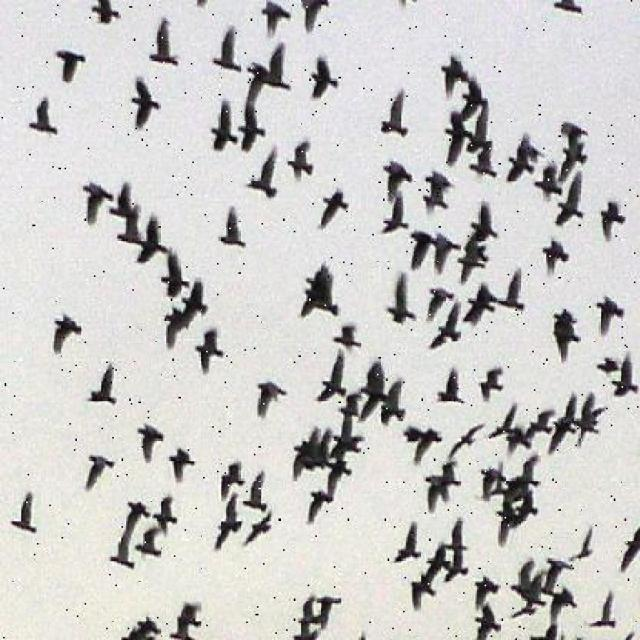bird: (247, 40, 298, 98), (122, 74, 164, 136), (143, 12, 184, 73), (241, 141, 284, 199), (70, 174, 114, 230), (202, 94, 239, 155), (375, 85, 413, 144), (239, 468, 281, 520), (81, 368, 132, 410), (307, 49, 345, 104), (107, 171, 145, 226), (2, 489, 43, 538), (509, 554, 546, 607), (208, 20, 243, 76), (536, 229, 576, 278), (442, 108, 474, 169), (549, 388, 578, 455), (357, 359, 386, 426), (248, 372, 288, 420), (505, 125, 535, 189), (44, 48, 94, 86), (310, 353, 348, 403), (83, 440, 114, 501), (377, 155, 415, 204), (23, 97, 67, 139), (216, 492, 246, 552), (428, 364, 468, 409), (287, 137, 325, 184), (134, 212, 166, 267), (148, 493, 192, 533), (588, 590, 626, 636), (387, 268, 416, 328), (156, 243, 190, 294), (427, 301, 461, 352), (436, 48, 472, 96), (328, 414, 363, 463), (555, 172, 586, 227), (398, 420, 439, 461), (556, 144, 597, 185), (546, 320, 586, 362), (168, 281, 212, 319), (217, 207, 251, 256), (237, 103, 270, 153), (465, 101, 496, 154), (192, 324, 226, 372), (377, 378, 409, 429), (467, 138, 502, 184), (493, 269, 527, 316), (293, 288, 346, 318), (50, 314, 86, 358), (521, 402, 560, 442), (476, 364, 515, 404), (289, 423, 315, 483), (379, 192, 411, 240), (595, 293, 629, 338), (390, 522, 425, 565), (463, 284, 494, 332), (256, 0, 295, 38), (471, 196, 499, 248), (421, 542, 454, 586), (447, 516, 474, 569), (613, 351, 639, 406), (611, 523, 640, 572), (541, 549, 574, 592), (450, 420, 484, 461), (168, 444, 200, 487), (134, 421, 163, 468), (432, 229, 461, 276), (598, 199, 628, 244), (113, 204, 145, 246), (314, 591, 346, 632), (216, 456, 247, 498), (320, 188, 347, 236), (291, 0, 334, 30), (326, 454, 354, 500), (330, 321, 370, 353), (462, 78, 491, 122), (568, 524, 598, 566), (411, 574, 438, 620), (407, 226, 435, 270), (83, 0, 129, 26), (485, 402, 519, 437), (109, 534, 138, 575), (303, 487, 332, 528), (240, 510, 278, 541), (544, 585, 575, 623), (165, 303, 189, 352), (120, 496, 149, 536), (136, 527, 170, 561), (534, 159, 562, 199), (425, 281, 451, 323), (500, 426, 534, 458), (572, 410, 602, 446), (176, 596, 209, 628), (520, 456, 548, 493), (456, 252, 486, 286), (461, 230, 491, 264), (444, 546, 468, 588), (475, 603, 503, 639), (585, 392, 612, 428), (422, 168, 458, 195), (423, 473, 448, 511), (310, 428, 330, 474), (307, 267, 346, 290), (496, 504, 514, 552), (559, 117, 591, 144), (297, 592, 322, 626), (475, 466, 504, 495), (514, 496, 540, 528), (474, 575, 495, 614), (440, 458, 466, 488), (135, 613, 170, 635), (422, 188, 449, 216), (507, 471, 528, 505), (547, 0, 596, 14), (489, 461, 506, 501), (554, 304, 582, 328), (507, 601, 542, 620), (595, 355, 622, 379), (340, 391, 362, 419), (123, 624, 157, 640), (527, 626, 565, 640), (287, 627, 323, 640), (163, 632, 200, 640)
